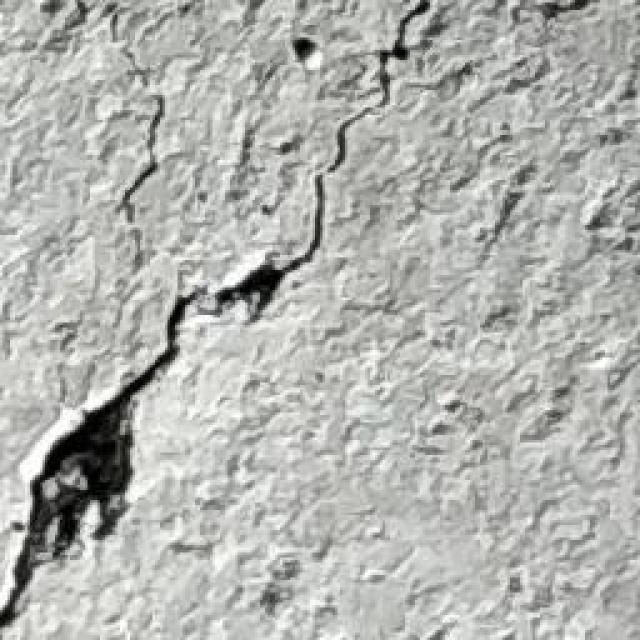Radial: (1, 0, 511, 640)
